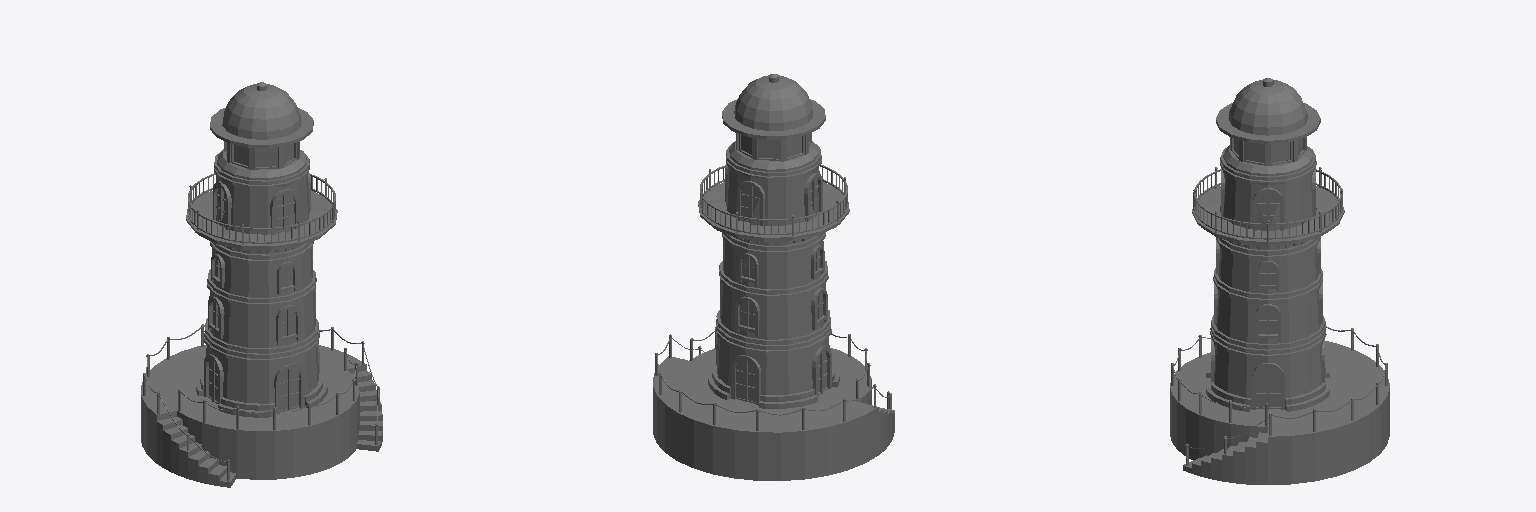
The model's file is lighthouse.obj.
3 views of the same model, side by side, from view 1: azimuth 30°, elevation 25°; view 2: azimuth 150°, elevation 25°; view 3: azimuth 270°, elevation 25° (orthographic).
Parts seen in each view (by area): view 1: house_LOW_Mesh, stair_LOW_Mesh.001, polySurface159_Mesh.003, polySurface135_Mesh.004, polySurface178_Mesh.007, polySurface1_Mesh.006; view 2: house_LOW_Mesh, stair_LOW_Mesh.001, polySurface159_Mesh.003, polySurface135_Mesh.004, polySurface1_Mesh.006, polySurface178_Mesh.007; view 3: house_LOW_Mesh, stair_LOW_Mesh.001, polySurface159_Mesh.003, polySurface135_Mesh.004, polySurface1_Mesh.006, polySurface178_Mesh.007.
Part boxes in pixels (bbox=[...]): house_LOW_Mesh: bbox=[186, 82, 337, 417]; stair_LOW_Mesh.001: bbox=[141, 345, 382, 487]; polySurface159_Mesh.003: bbox=[204, 142, 319, 413]; polySurface135_Mesh.004: bbox=[209, 144, 298, 410]; polySurface178_Mesh.007: bbox=[143, 324, 379, 481]; polySurface1_Mesh.006: bbox=[188, 173, 335, 244]; house_LOW_Mesh: bbox=[698, 74, 849, 408]; stair_LOW_Mesh.001: bbox=[653, 348, 894, 480]; polySurface159_Mesh.003: bbox=[716, 134, 831, 405]; polySurface135_Mesh.004: bbox=[736, 135, 826, 401]; polySurface1_Mesh.006: bbox=[700, 165, 847, 235]; polySurface178_Mesh.007: bbox=[655, 327, 891, 430]; house_LOW_Mesh: bbox=[1192, 78, 1344, 411]; stair_LOW_Mesh.001: bbox=[1170, 341, 1389, 484]; polySurface159_Mesh.003: bbox=[1211, 138, 1324, 409]; polySurface135_Mesh.004: bbox=[1234, 139, 1302, 406]; polySurface1_Mesh.006: bbox=[1193, 167, 1342, 241]; polySurface178_Mesh.007: bbox=[1171, 326, 1387, 465].
Size of the model in its own units: 0.2461 by 0.3999 by 0.2239.